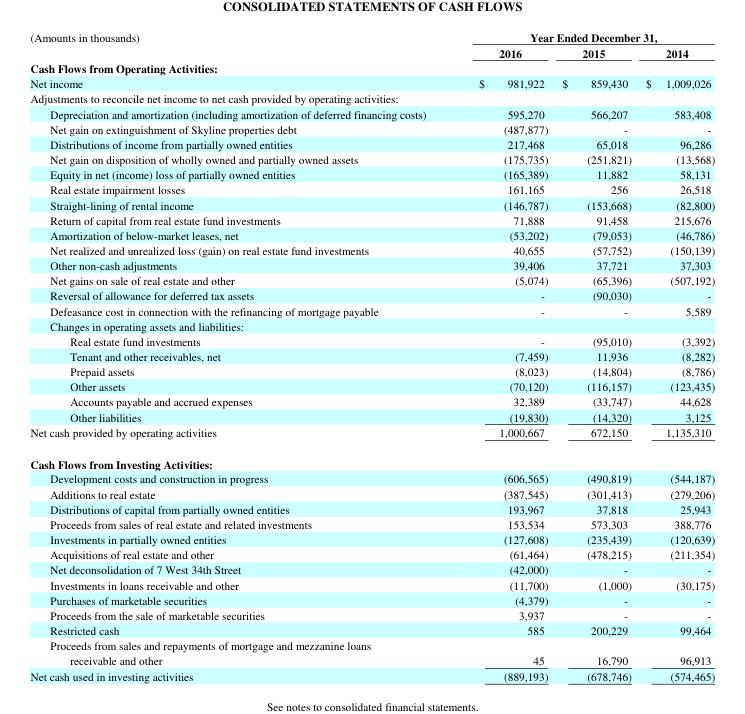table: (29, 28, 714, 683)
table column: (29, 28, 451, 683), (451, 28, 554, 683), (554, 28, 637, 683), (637, 28, 714, 683)
table column header: (29, 28, 714, 60)
table projected row header: (29, 447, 714, 470), (29, 60, 714, 75), (29, 90, 714, 105), (29, 317, 714, 332), (29, 637, 714, 652)
table row: (29, 424, 714, 447), (29, 447, 714, 470), (29, 28, 714, 44), (29, 44, 714, 60), (29, 135, 714, 151), (29, 226, 714, 242), (29, 332, 714, 348), (29, 408, 714, 424), (29, 515, 714, 531), (29, 606, 714, 622), (29, 667, 714, 683), (29, 60, 714, 75), (29, 75, 714, 90), (29, 90, 714, 105), (29, 105, 714, 120), (29, 120, 714, 135), (29, 151, 714, 166), (29, 166, 714, 181), (29, 181, 714, 196), (29, 196, 714, 211), (29, 211, 714, 226), (29, 242, 714, 257), (29, 257, 714, 272), (29, 272, 714, 287), (29, 287, 714, 302), (29, 302, 714, 317), (29, 317, 714, 332), (29, 348, 714, 363), (29, 363, 714, 378), (29, 378, 714, 393), (29, 393, 714, 408), (29, 470, 714, 485), (29, 485, 714, 500), (29, 500, 714, 515), (29, 531, 714, 546), (29, 546, 714, 561), (29, 561, 714, 576), (29, 576, 714, 591), (29, 591, 714, 606), (29, 622, 714, 637), (29, 637, 714, 652), (29, 652, 714, 667)
table spanning cell: (29, 28, 451, 60), (451, 28, 714, 44)
